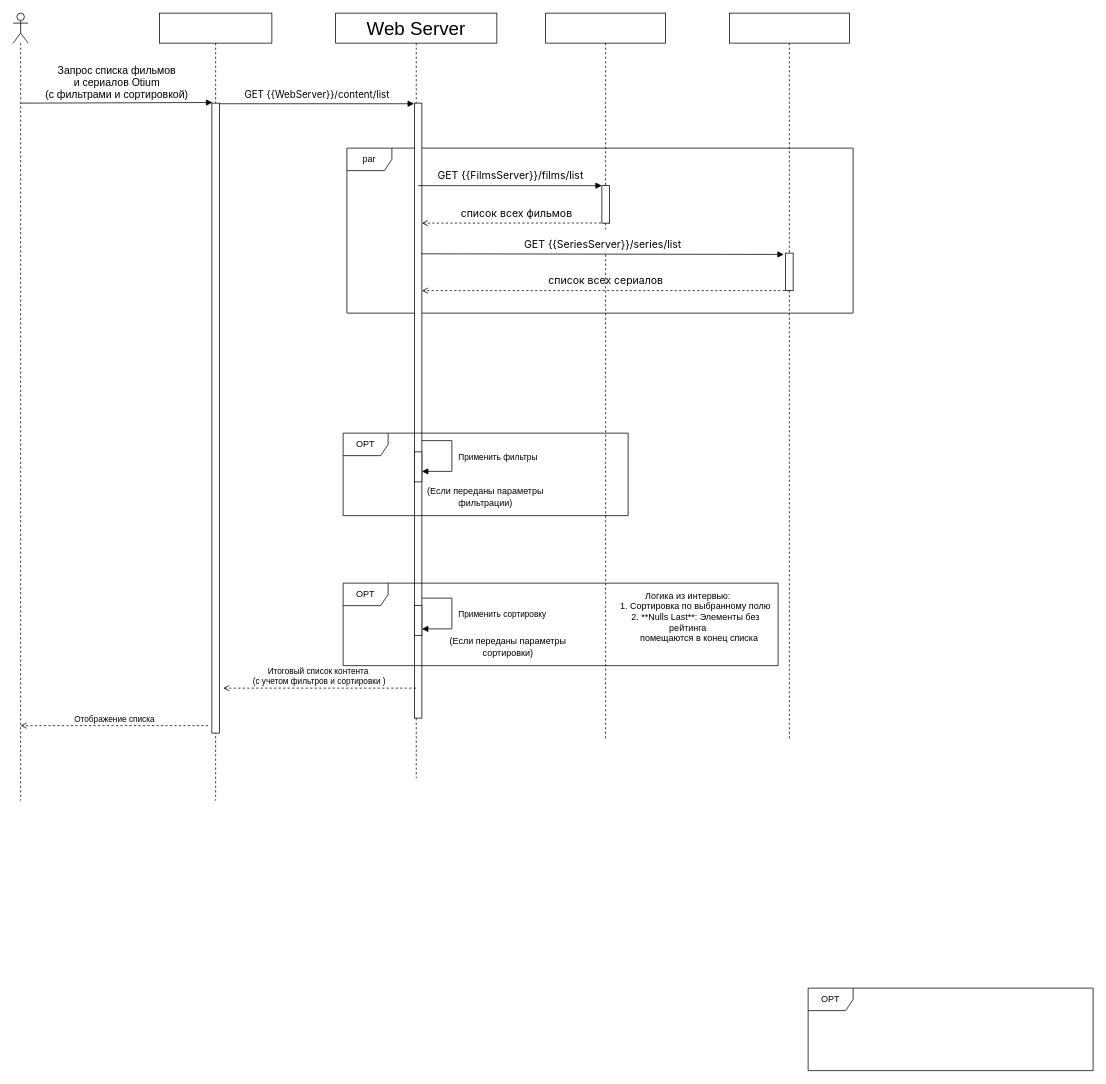
Some shapes in this 1106 by 1084 pixel diagram are drawn without their labels. The box of each missing label's shape, as (x1, y1, x2, y2) in pixels:
Films Server: (545, 12, 666, 741)
Series Server: (729, 12, 849, 741)
UI: Otium: (159, 12, 272, 801)
